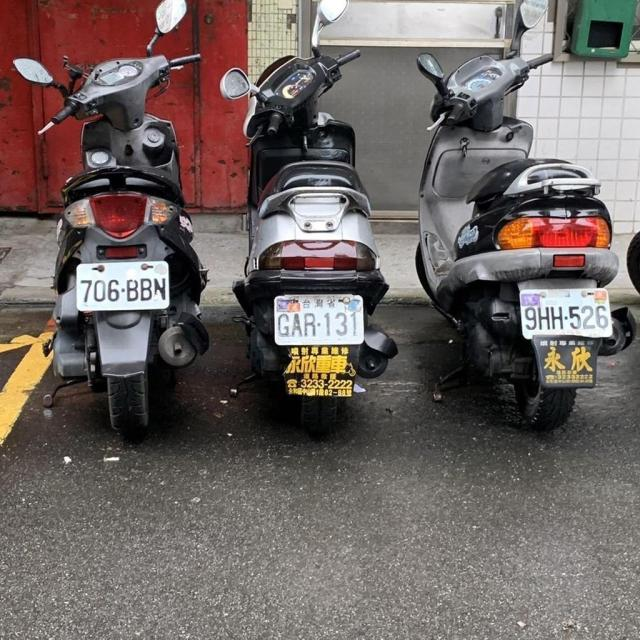W: (515, 286, 617, 342), (73, 259, 172, 314), (271, 291, 366, 348)
